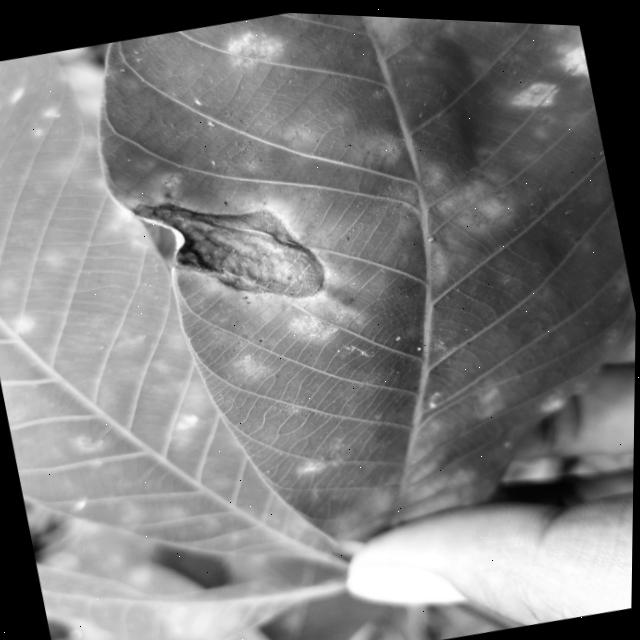Leaf-Blight: (129, 167, 332, 327), (556, 27, 608, 161)
